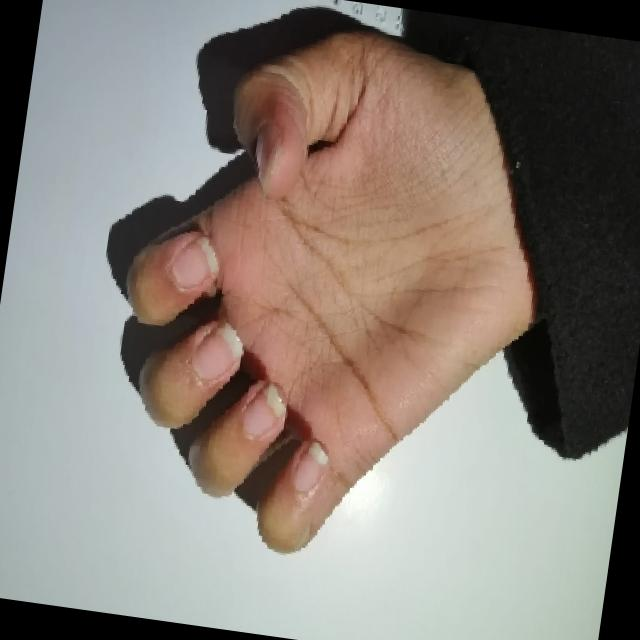Nail: (192, 323, 242, 381), (170, 235, 218, 288), (243, 382, 285, 439), (254, 123, 281, 195), (291, 440, 328, 492)
